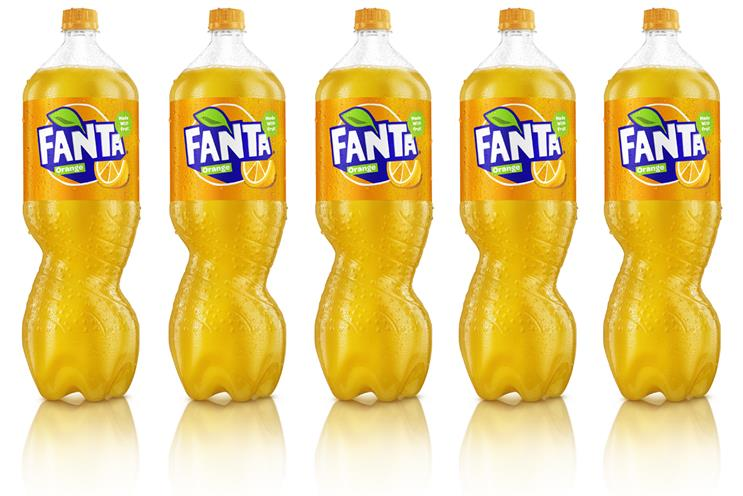Copy of Copy of Copy of Copy of Fanta: (160, 10, 300, 406)
Copy of Copy of Copy of Fanta: (303, 7, 443, 403)
Copy of Copy of Fanta: (449, 9, 589, 405)
Copy of Fanta: (587, 4, 728, 401)
Fanta: (9, 9, 150, 406)
